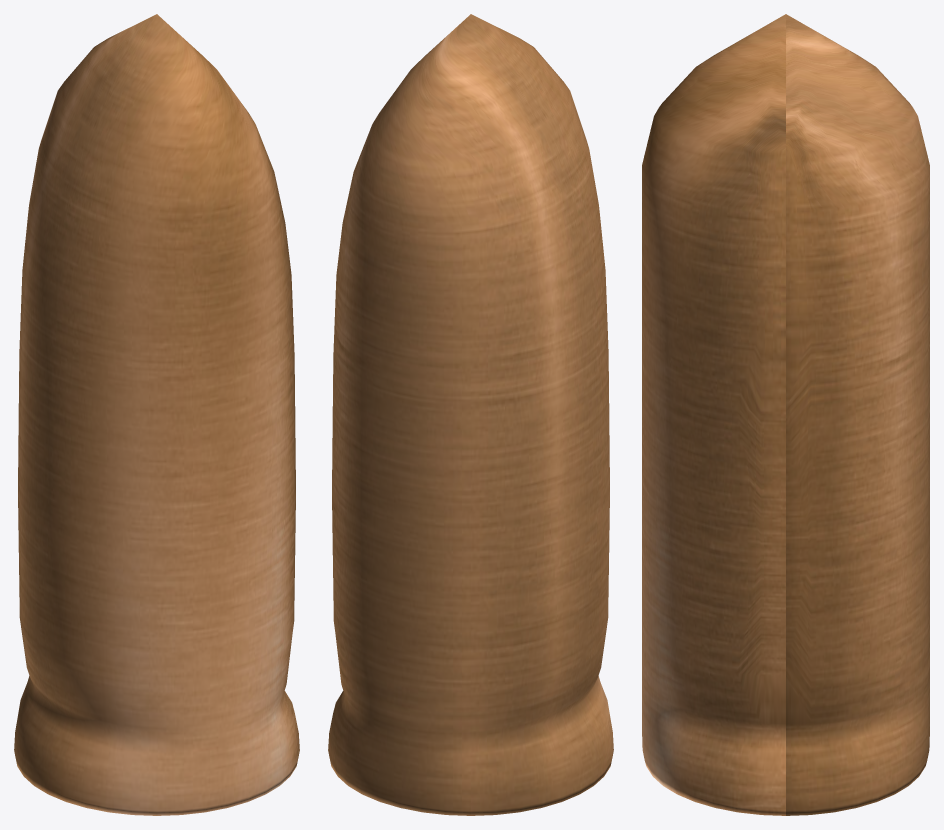
Rendered from bala.fbx.
3 renders of one model, left to right at view 1: azimuth 30°, elevation 25°; view 2: azimuth 150°, elevation 25°; view 3: azimuth 270°, elevation 25°, orthographic.
Parts seen in each view (by area): view 1: Cylinder001; view 2: Cylinder001; view 3: Cylinder001.
Part boxes in pixels (<box>): Cylinder001: <box>14,14,299,815</box>; Cylinder001: <box>328,14,613,815</box>; Cylinder001: <box>642,14,929,815</box>.
Size of the model in its own units: 104 by 297 by 105.
Materials: 1 (1 with a texture image).
